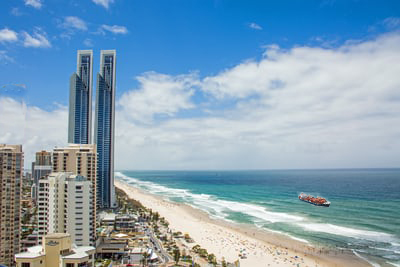copymove: (68, 45, 93, 145)
removal: (1, 87, 25, 144)
spliced: (296, 192, 332, 207)
